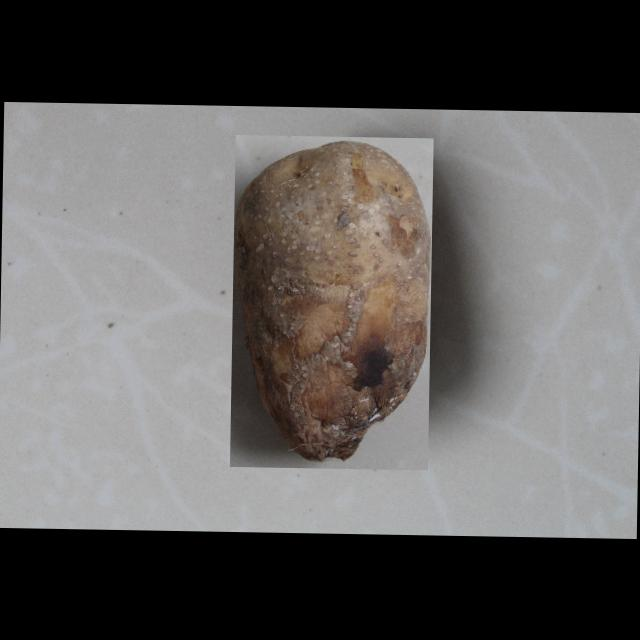Diseased-fungal potato: (230, 134, 433, 470)
